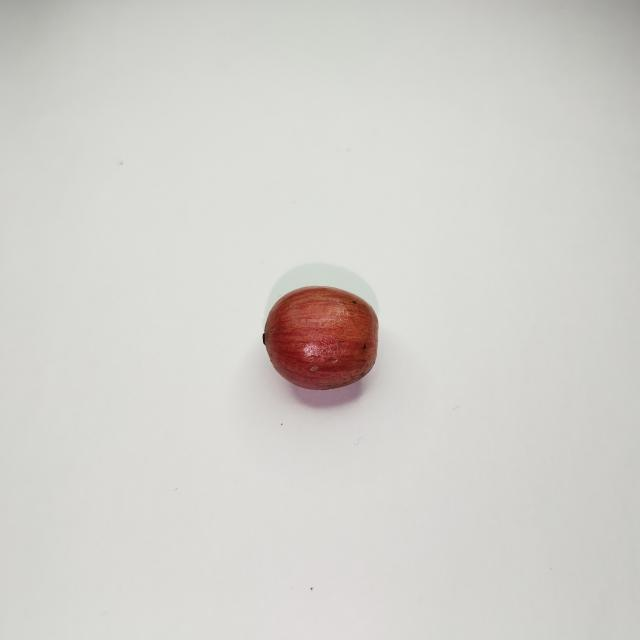Sano: (263, 287, 376, 389)
